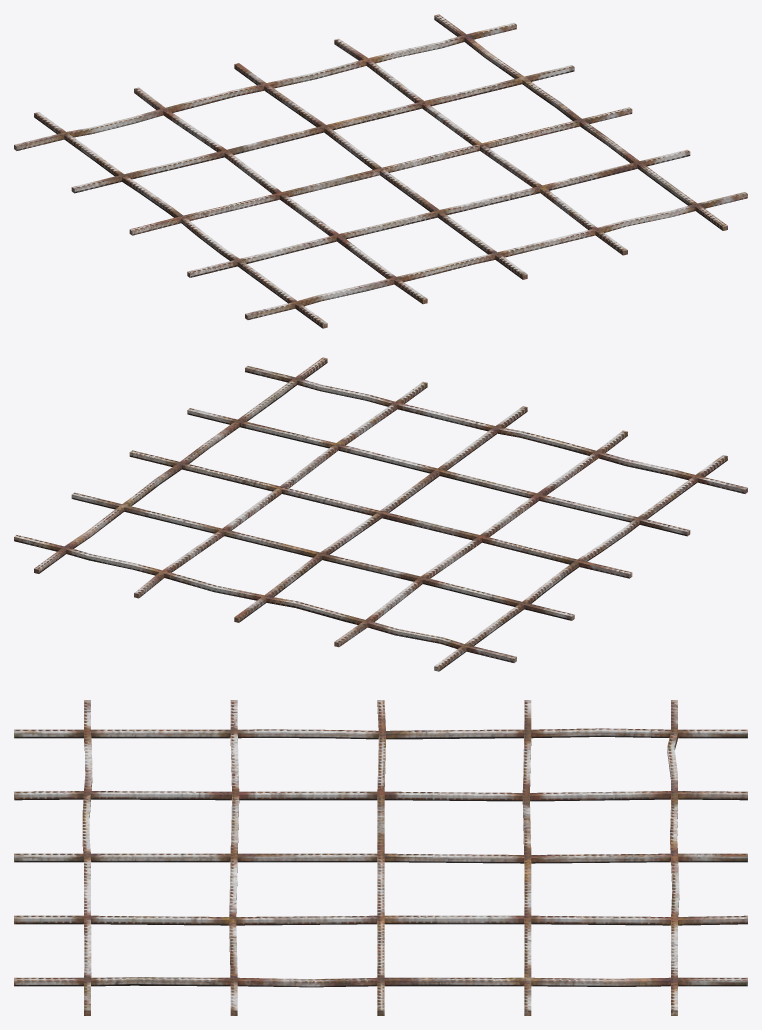
The model's file is Wiremesh_02a_snaps005.fbx.
The picture shows the model from 3 angles, top to bottom: view 1: azimuth 30°, elevation 25°; view 2: azimuth 150°, elevation 25°; view 3: azimuth 270°, elevation 25°; orthographic projection. The views are drawn at different scales.
Parts seen in each view (by area): view 1: Wiremesh_02a_snaps005_LOD0; view 2: Wiremesh_02a_snaps005_LOD0; view 3: Wiremesh_02a_snaps005_LOD0.
Part boxes in pixels (x1,y1,x2,y2): Wiremesh_02a_snaps005_LOD0: (14, 14, 747, 328); Wiremesh_02a_snaps005_LOD0: (14, 357, 747, 671); Wiremesh_02a_snaps005_LOD0: (14, 700, 747, 1015).
Size of what is drawn, in the model's own units: 100 by 1.45 by 100.
